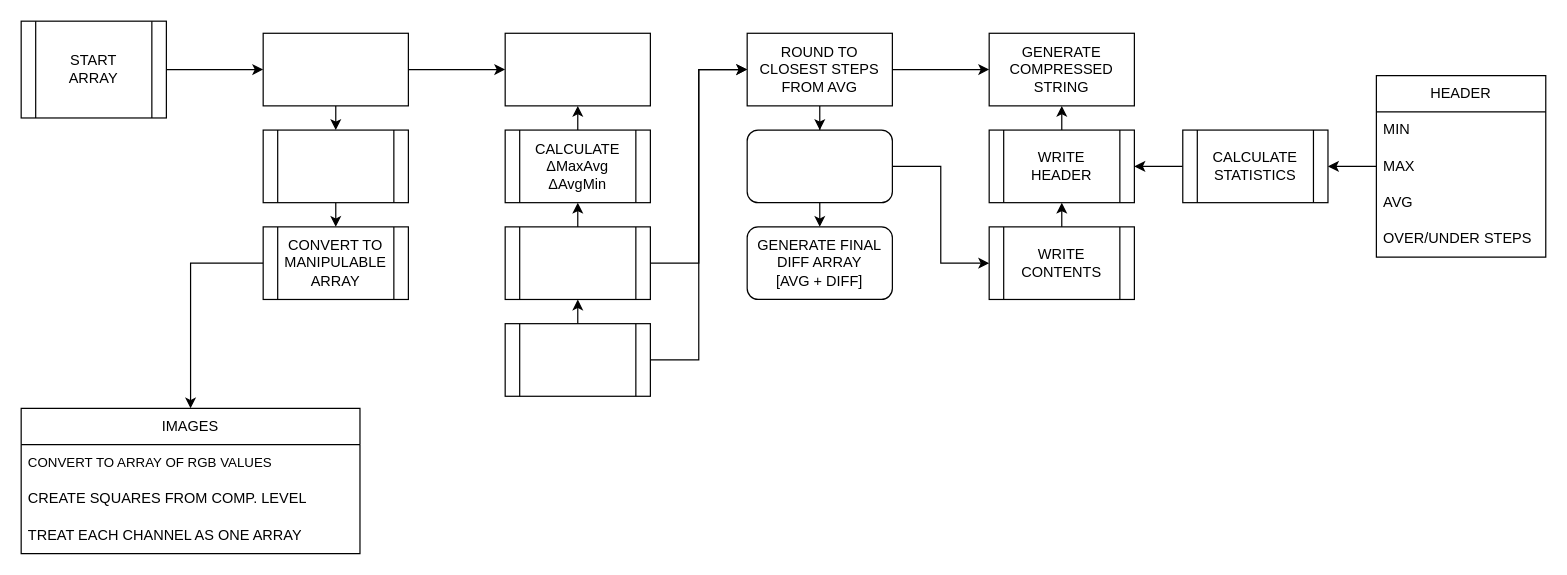
Some shapes in this 1567 by 575 pixel diagram are drawn without their labels. The centre of each missing label's shape, as x and y in pixels:
"CALCULATE nAboveSections nBelowSections" goes at pixel 577 262.
"CALCULATE STATISTICS (min, avg, max)" goes at pixel 335 166.
"DIVIDE RANGE INTO SECTIONS" goes at pixel 577 69.
"GENERATE DIFF ARRAY" goes at pixel 819 166.
"PREPROCESSING" goes at pixel 335 69.
"SPLIT ARRAY TO SECTIONS" goes at pixel 577 359.
